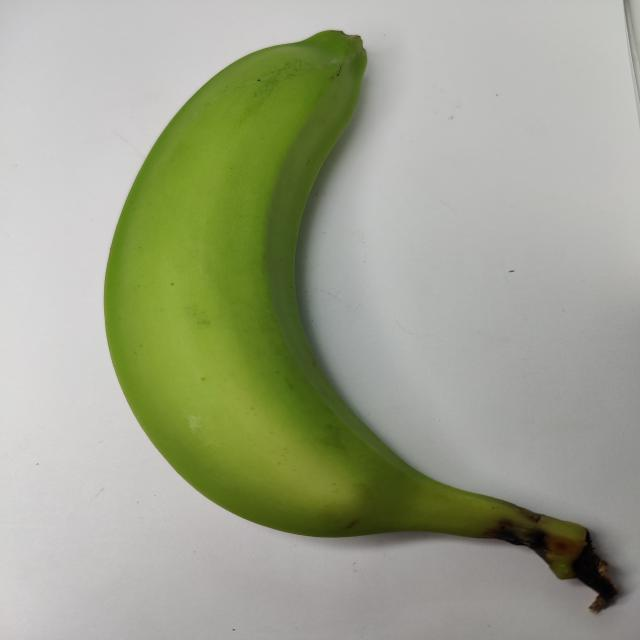raw: (77, 22, 634, 620)
